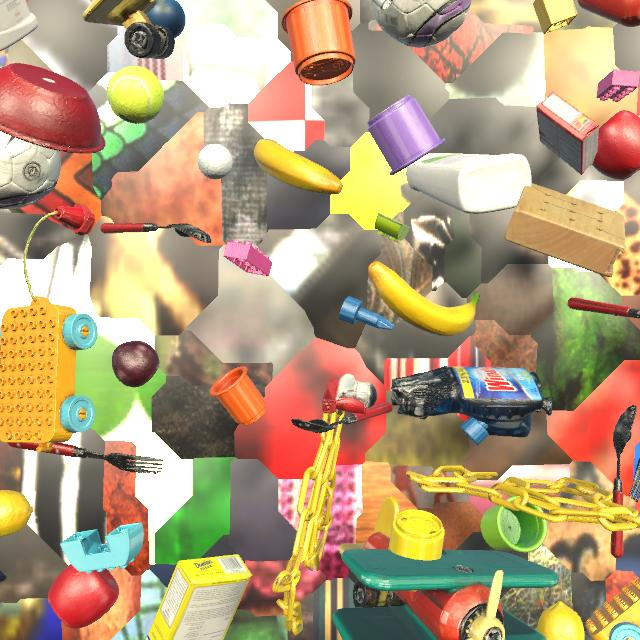ycb_004_sugar_box: (146, 554, 253, 640)
ycb_009_gelatin_box: (536, 91, 599, 175)
ycb_011_banana: (368, 261, 480, 336), (254, 139, 343, 195)
ycb_013_apple: (48, 564, 119, 629), (592, 110, 640, 180)
ycb_014_lemon: (537, 601, 585, 640), (0, 490, 34, 536)
ycb_018_plum: (112, 341, 159, 387)
